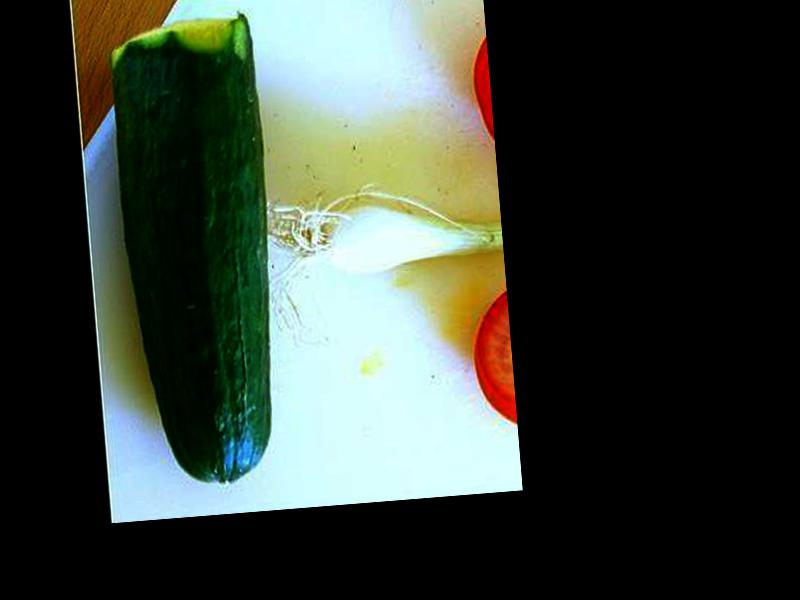Cucumber: (106, 12, 287, 492)
